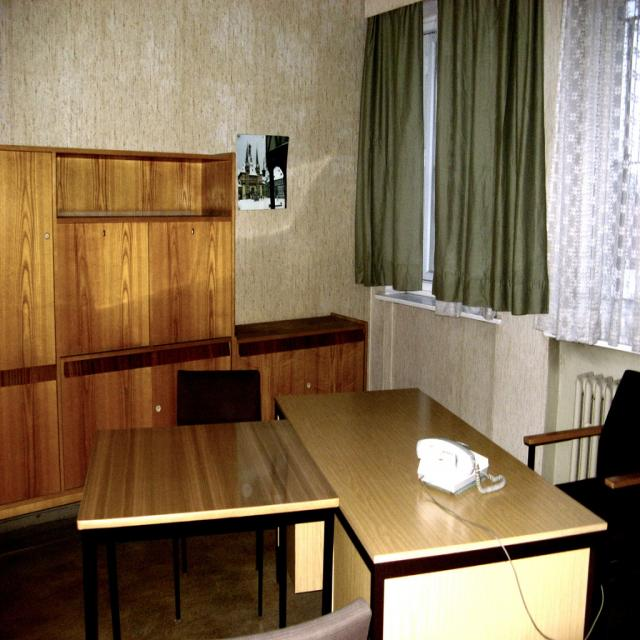chair: (522, 370, 640, 638), (216, 597, 372, 640), (176, 369, 262, 425)
desk: (275, 383, 607, 640)
